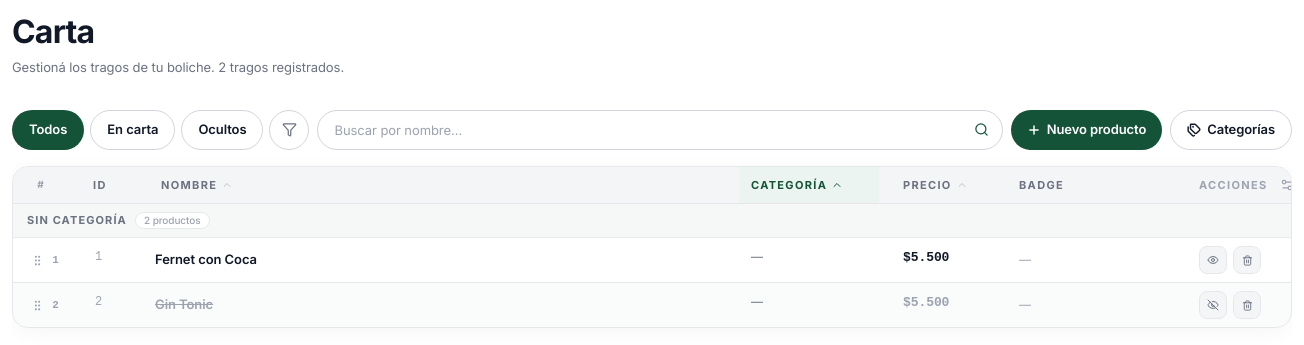
Test: CartaSection › filtra por búsqueda de nombre y por vista En carta / Ocultos
Expected: the text "Fernet con Coca" is shown, [155,251,257,267]
In the field with placeholder "Buscar por nombre…": (640, 130) [318,110,962,148], type "gin"
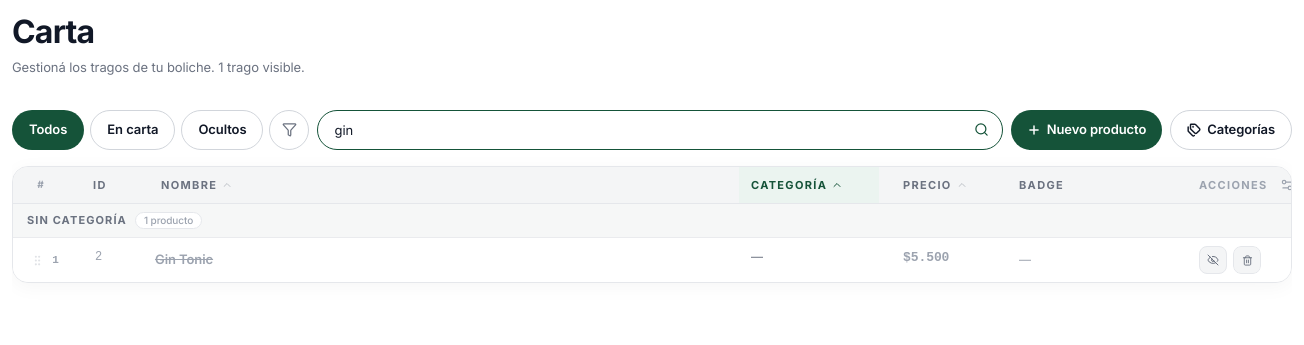
Expected: the text "Gin Tonic" is shown, [155,251,213,267]
Now the text "Fernet con Coca" is gone
Clear the field with placeholder "Buscar por nombre…": (640, 130) [318,110,962,148]
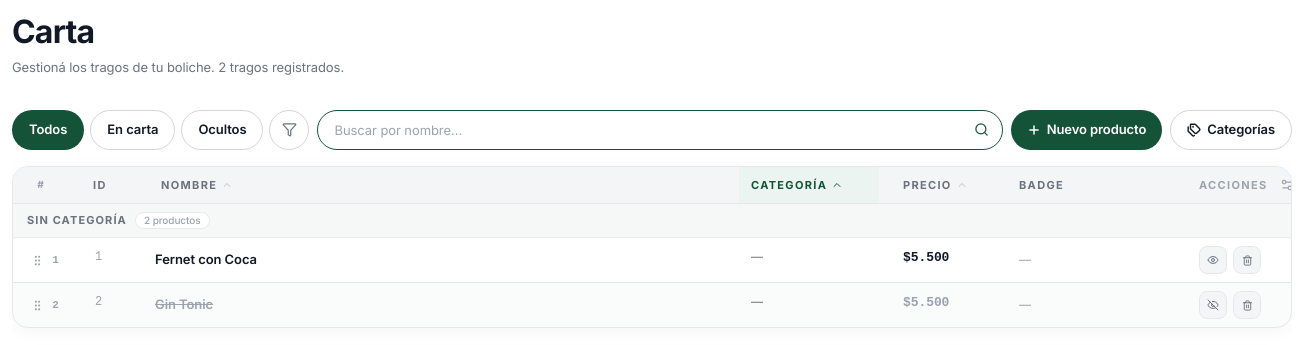
Click the button "En carta": (133, 130) [90,110,175,150]
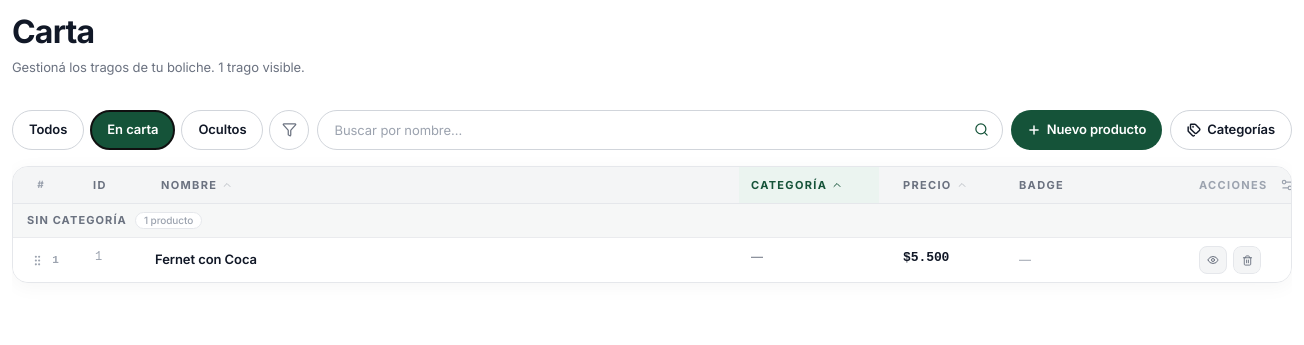
Now the text "Fernet con Coca" is shown, box [155,251,257,267]
Now the text "Gin Tonic" is gone
